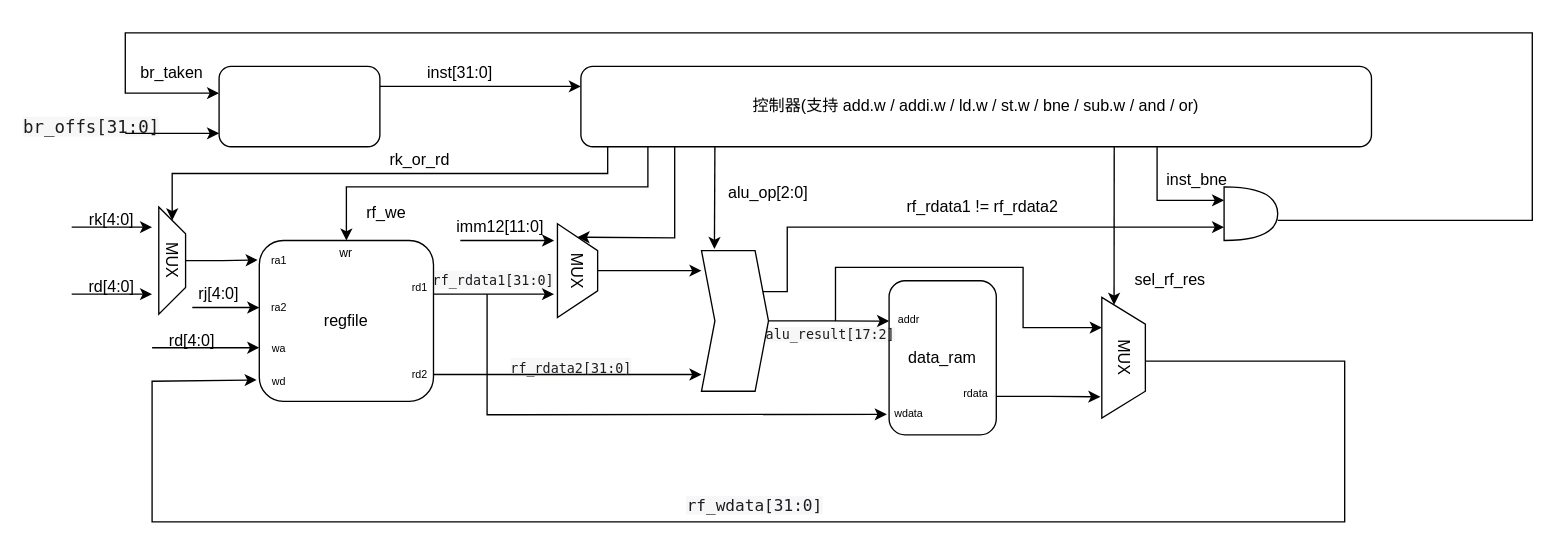
The diagram is 1566 pixels wide and 556 high, and some of its shapes have lost their labels. The centre of each missing label's shape, as x and y in pixels:
"ALU" goes at point 734,320.
"ifetch_unit" goes at point 299,106.
